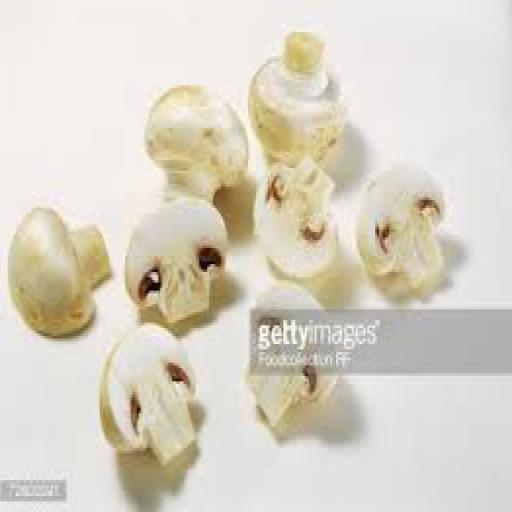mushroom: (99, 330, 201, 462), (355, 158, 456, 290), (14, 204, 112, 335), (125, 200, 222, 323), (147, 86, 239, 215), (248, 39, 342, 161), (256, 165, 342, 274)
